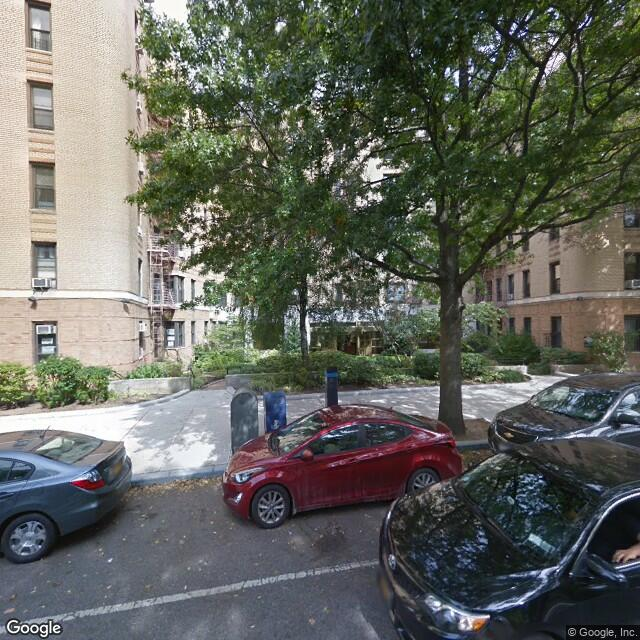litter: (104, 558, 114, 563)
